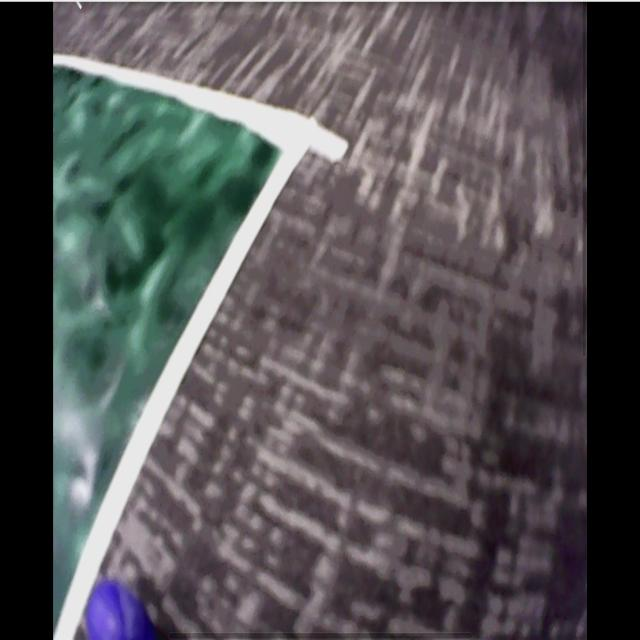ball: (86, 582, 153, 640)
